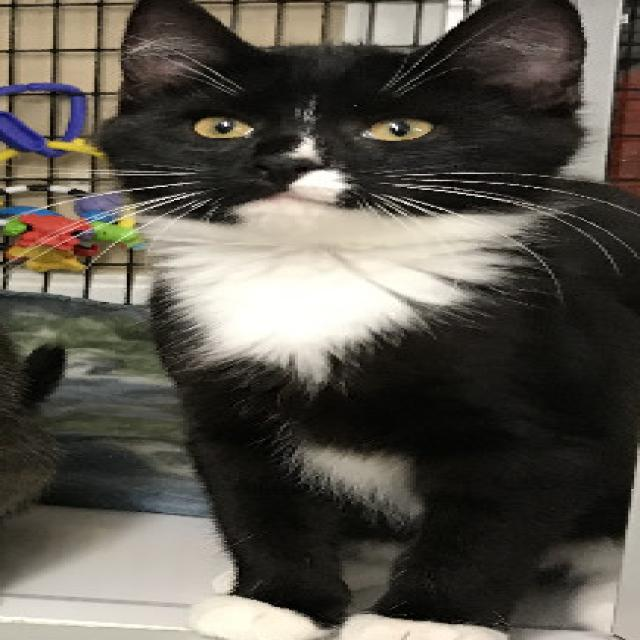Tuxedo: (88, 0, 640, 640)
